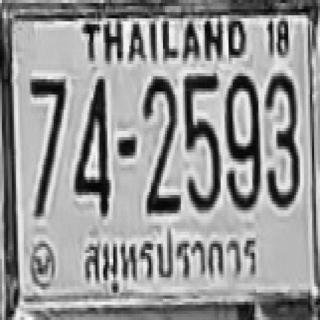N00: (225, 70, 258, 207)
N02: (143, 75, 177, 212)
N03: (264, 72, 298, 206)
N04: (74, 75, 109, 212)
N05: (183, 70, 219, 210)
N07: (28, 76, 66, 216), (29, 76, 65, 186)
N09: (225, 70, 258, 207)
P57: (82, 222, 259, 298)
